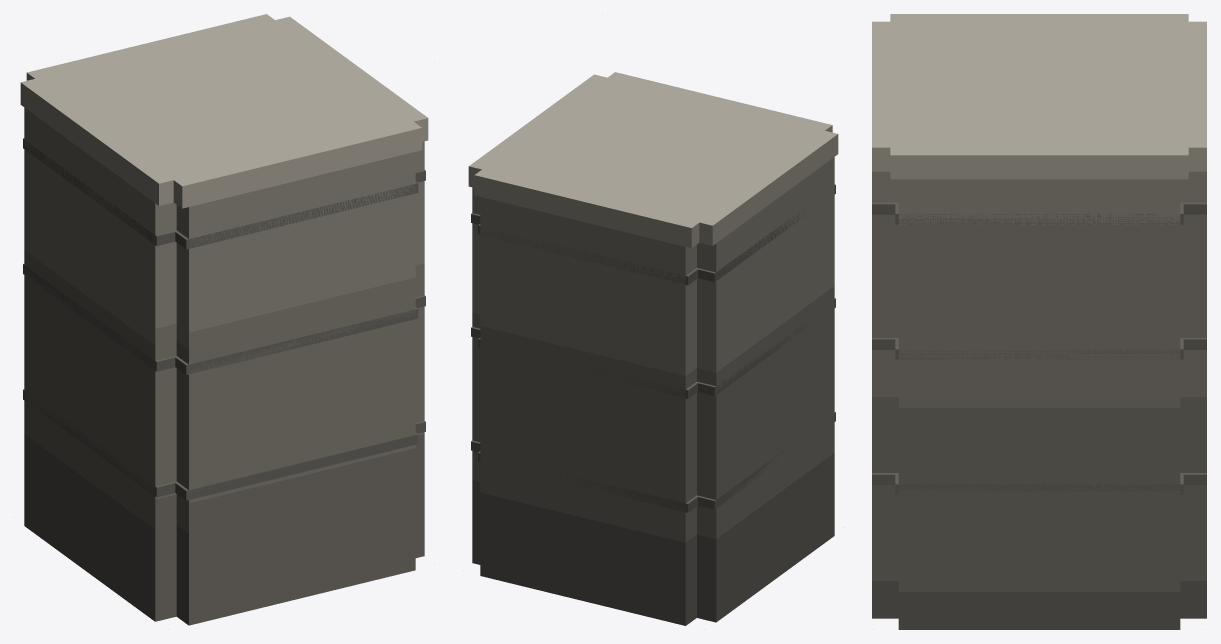
File: perimeter_wall_stone_cross.glb
3 renders of one model, left to right at view 1: azimuth 30°, elevation 25°; view 2: azimuth 150°, elevation 25°; view 3: azimuth 270°, elevation 25°, orthographic. The views are drawn at different scales.
Bounding box in the file's own units: 2.02 × 3.6 × 2.02.
Materials: 1 (1 with a texture image).
